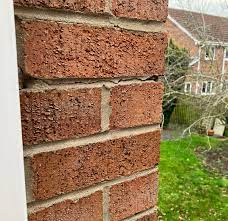crack: (44, 71, 163, 84)
